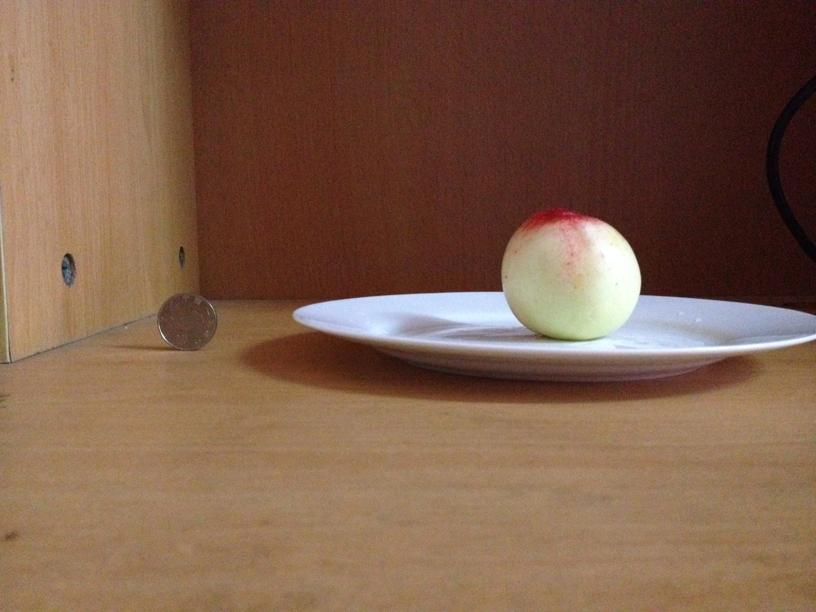coin: (154, 291, 217, 349)
peach: (500, 204, 642, 338)
